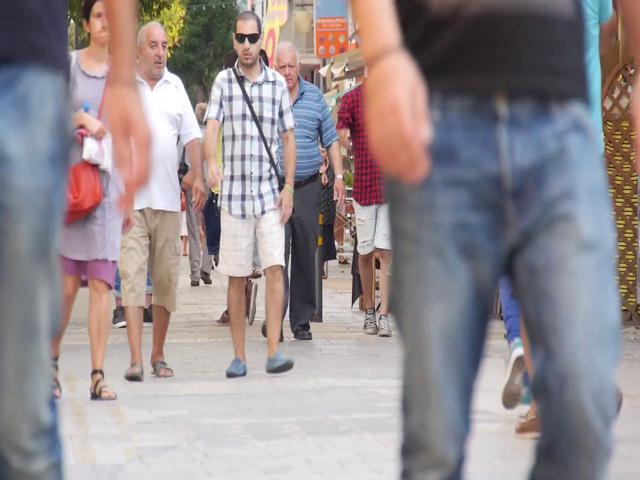shoe: (502, 338, 524, 409), (89, 370, 117, 400), (265, 352, 294, 374), (245, 282, 258, 325), (225, 357, 247, 378), (150, 358, 173, 378), (363, 309, 378, 335), (378, 314, 392, 337), (125, 363, 143, 380), (293, 326, 312, 340)
